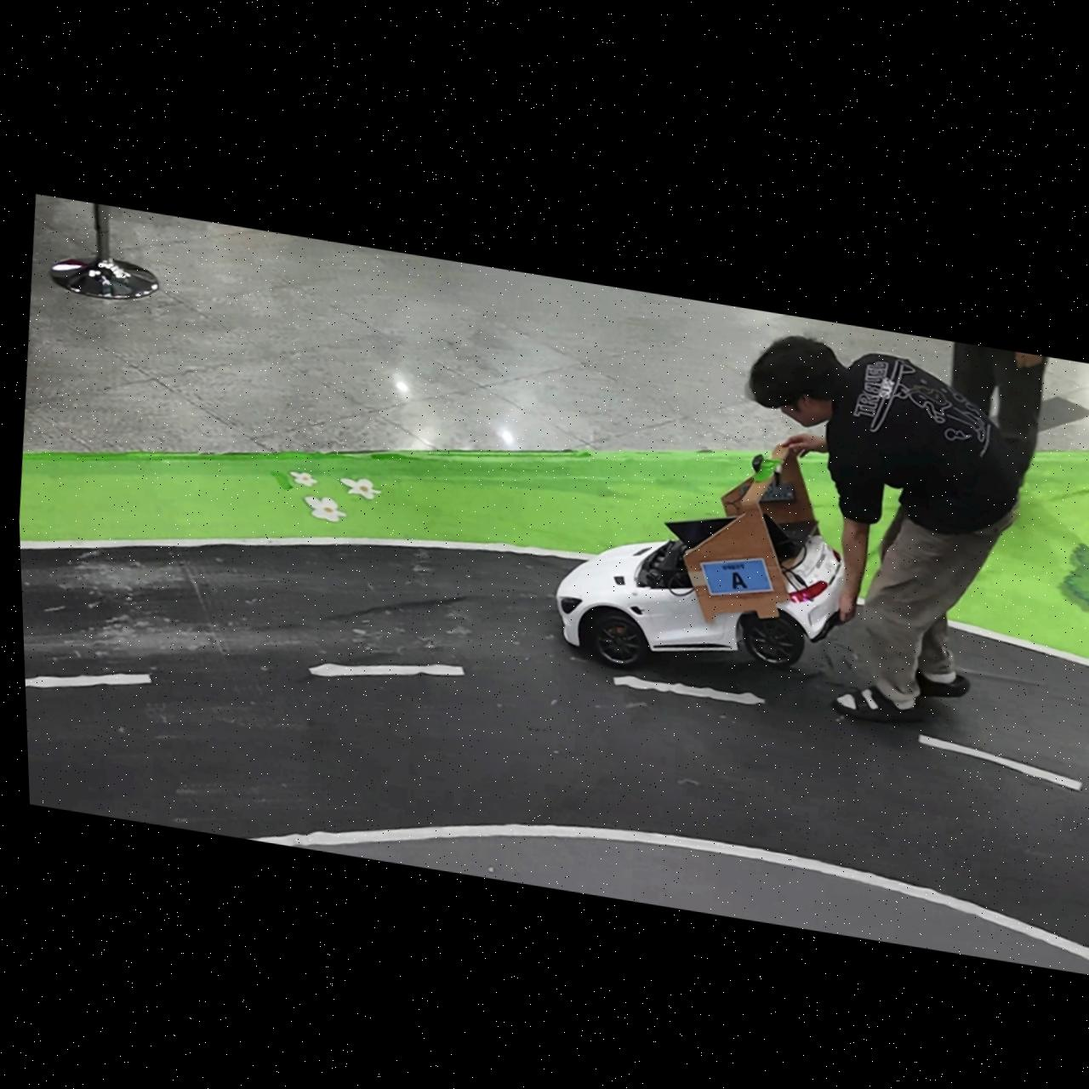broken_line: (918, 735, 1082, 791), (613, 675, 765, 705), (308, 663, 465, 677), (25, 673, 152, 688)
